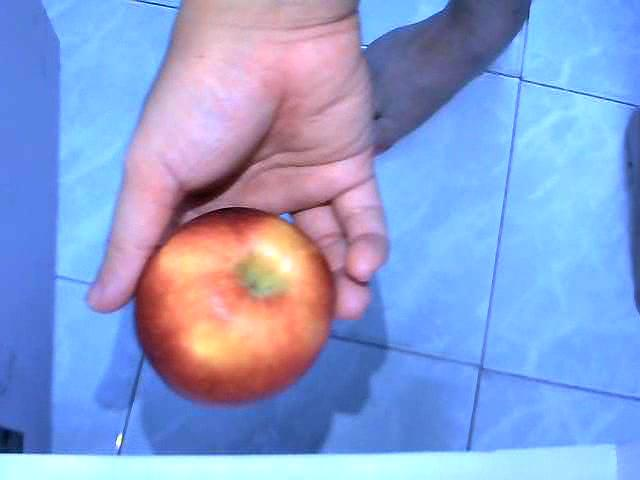apple: (131, 204, 337, 406)
